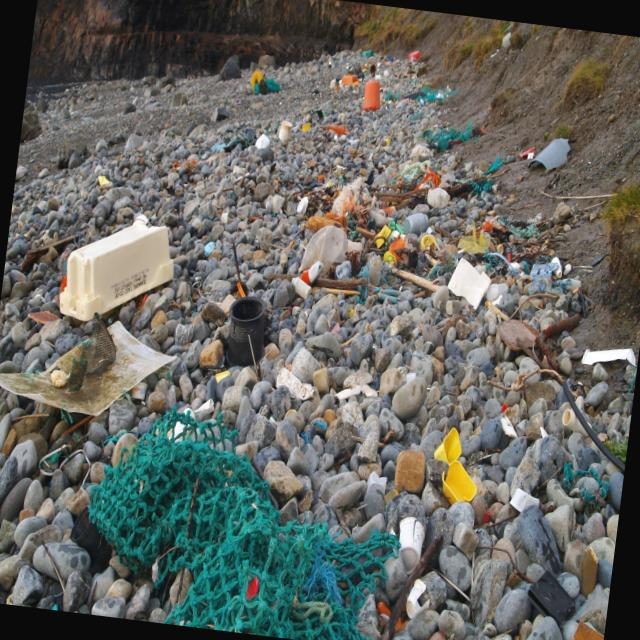garbage: (226, 53, 640, 640)
